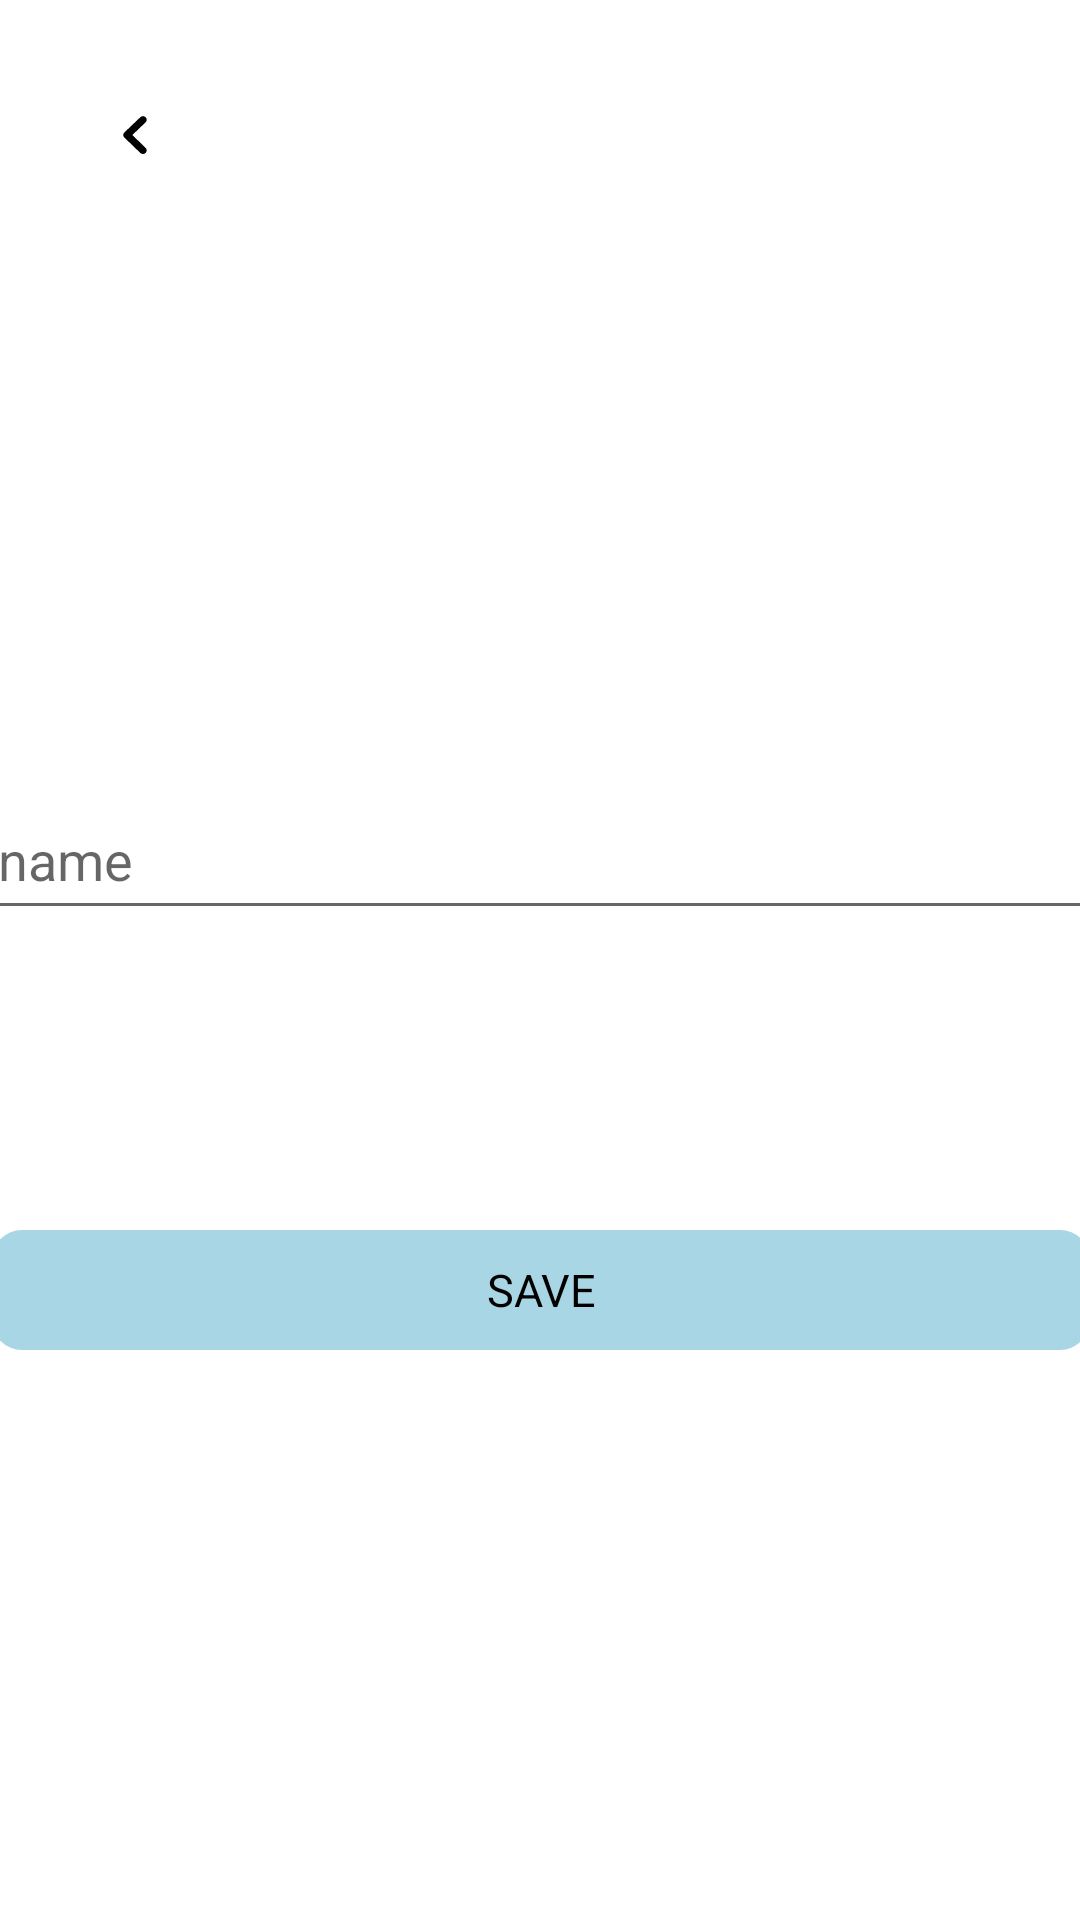

Where to tap for icons on this 1080 x 1920 app screen, as (x,y):
back: (135,135)
